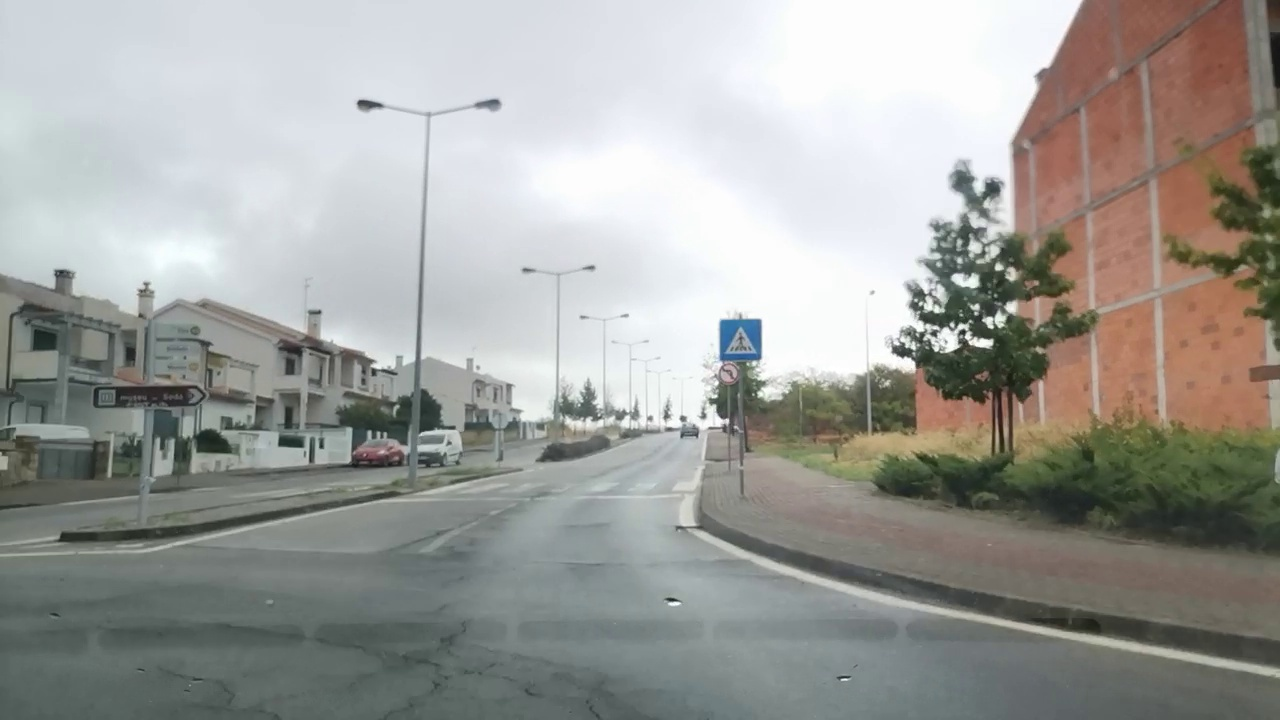Stairs: (425, 480, 700, 495)
